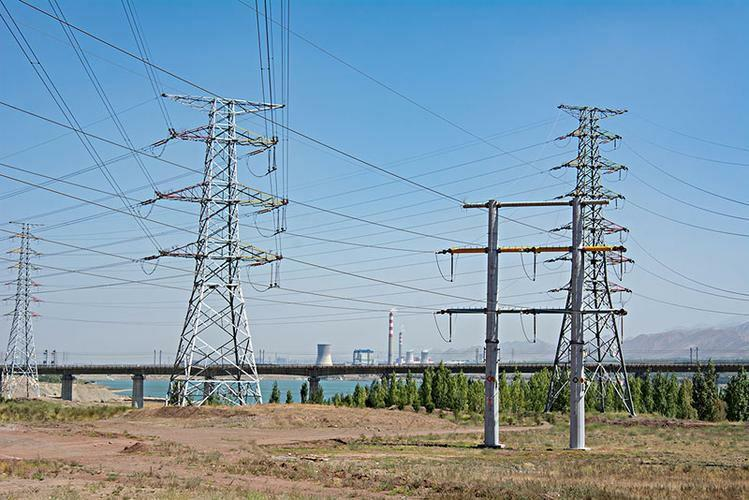power_tower: (435, 189, 606, 457), (151, 87, 293, 408), (549, 97, 645, 414), (0, 215, 69, 405)
